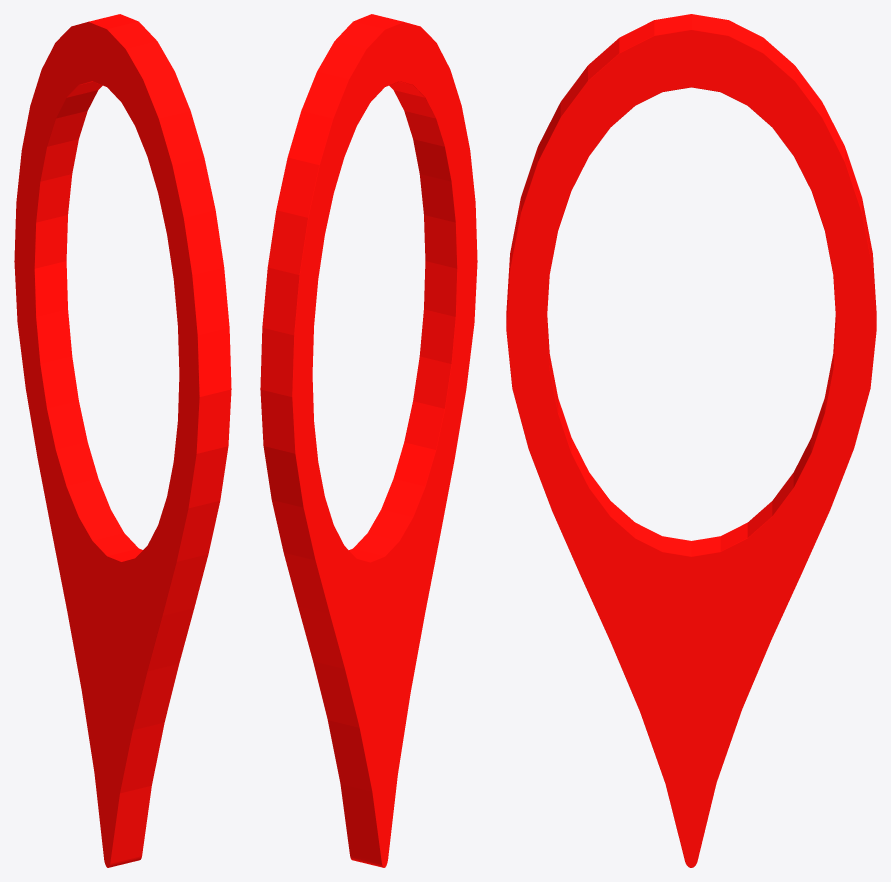
The model's file is gps.dae.
3 renders of one model, left to right at view 1: azimuth 30°, elevation 25°; view 2: azimuth 150°, elevation 25°; view 3: azimuth 270°, elevation 25°, orthographic.
Visible parts, largest first — view 1: Mesh_0; view 2: Mesh_0; view 3: Mesh_0.
Part boxes in pixels (left/top/right/bottom): Mesh_0: left=14, top=14, right=231, bottom=867; Mesh_0: left=260, top=14, right=477, bottom=867; Mesh_0: left=506, top=14, right=876, bottom=867.
Size of the model in its own units: 0.1 by 1 by 2.5.
